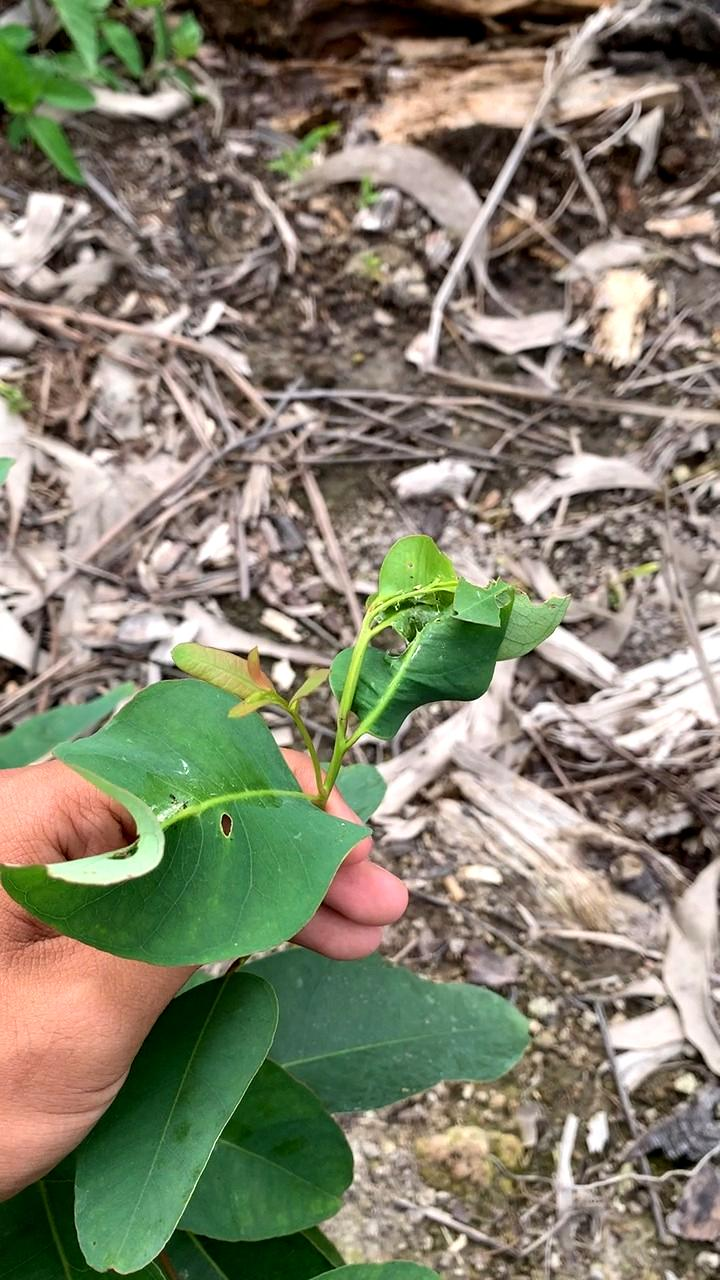Leaf Roller - Leaf: (335, 536, 555, 745)
